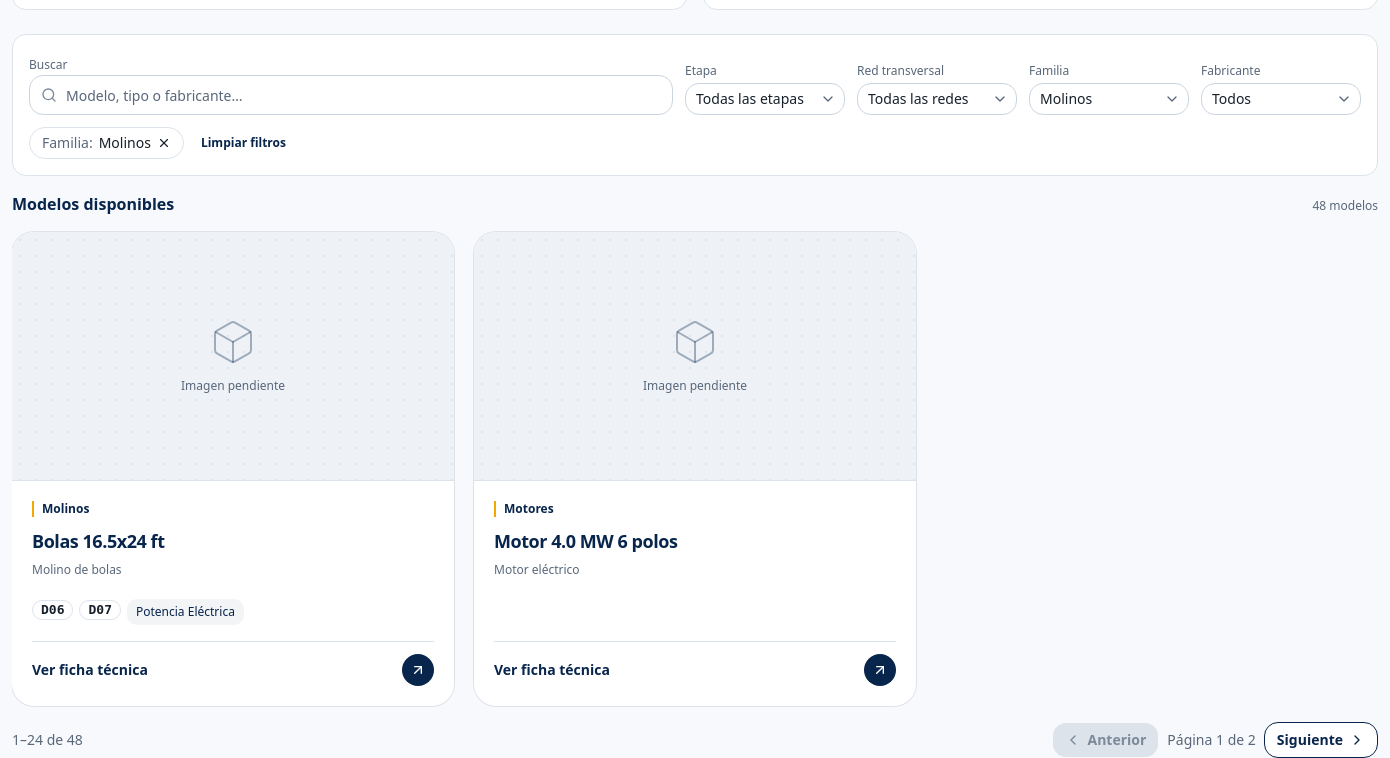
Scenario: Catálogo global › al paginar vuelve a las primeras tarjetas después de recibir los nuevos resultados, también al regresar
The image size is (1390, 758).
(page scrolled)
Expected: the heading "Bolas 16.5x24 ft" is shown, [32, 529, 164, 553]
Click the button with aria-label "Página siguiente" at (1321, 740), box [1264, 722, 1378, 757]
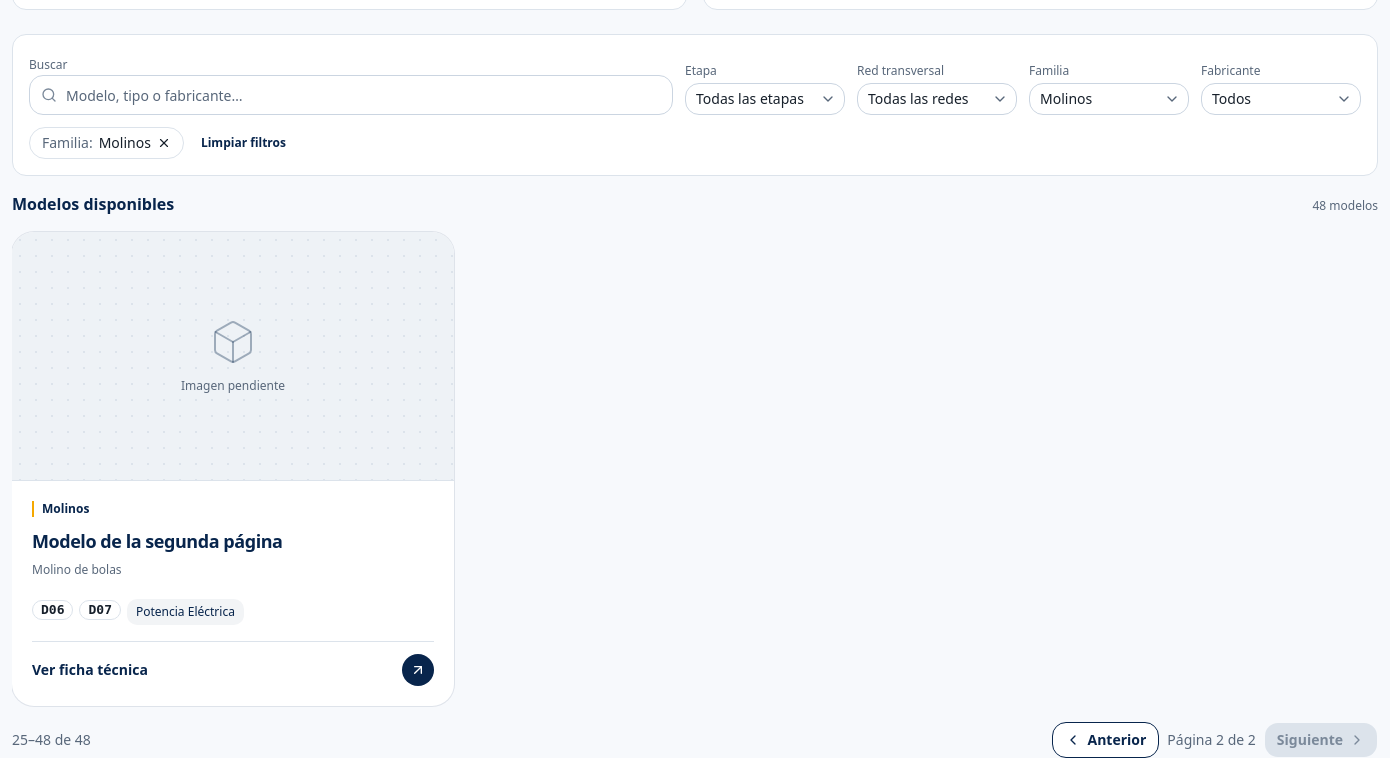
Click the button with aria-label "Página anterior" at (1106, 740), box [1052, 722, 1159, 757]
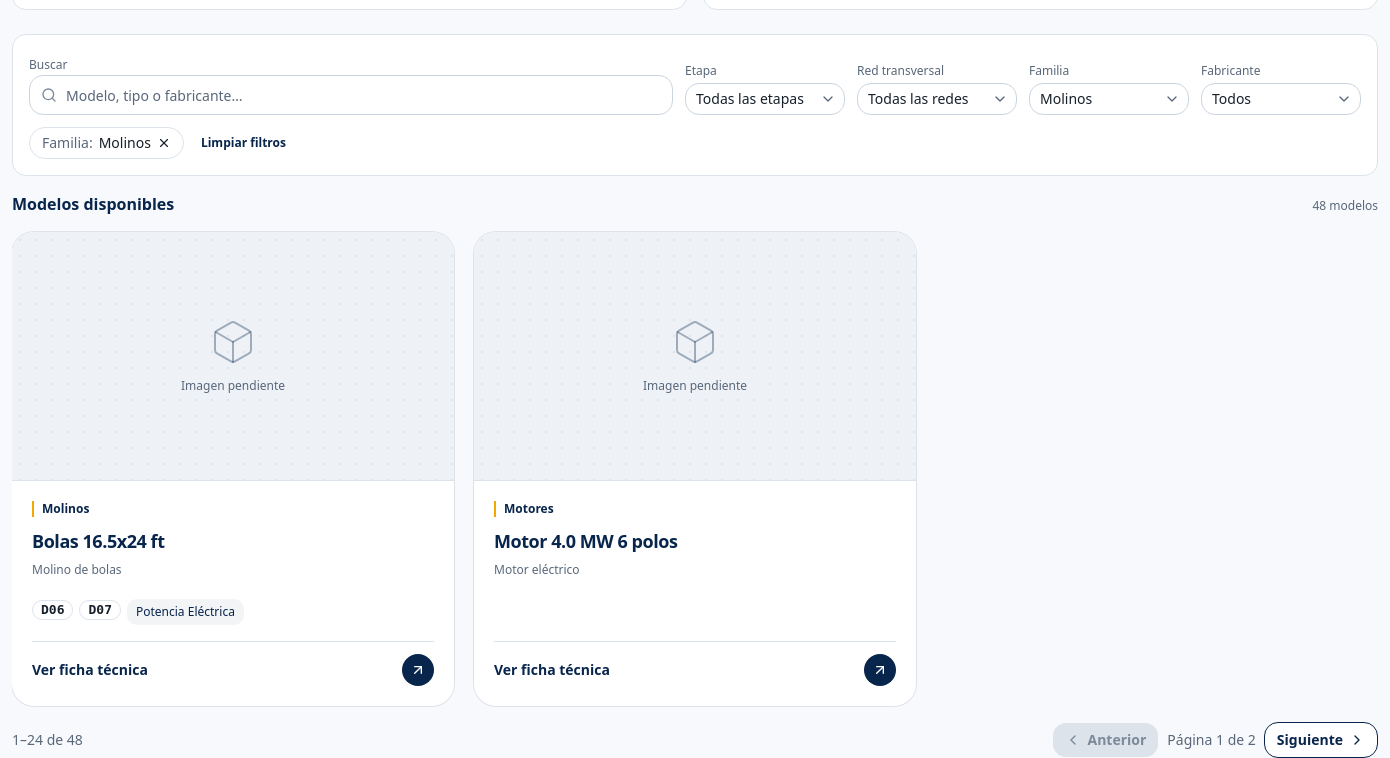
Expected: the heading "Bolas 16.5x24 ft" is shown, [32, 529, 164, 553]
Expected: the button with aria-label "Página anterior" is disabled, [1052, 722, 1159, 757]
